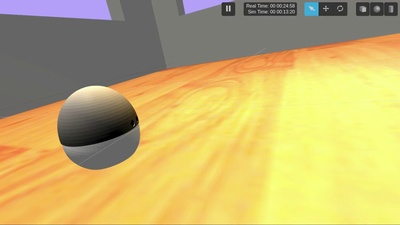mira_robot: (58, 85, 140, 170)
